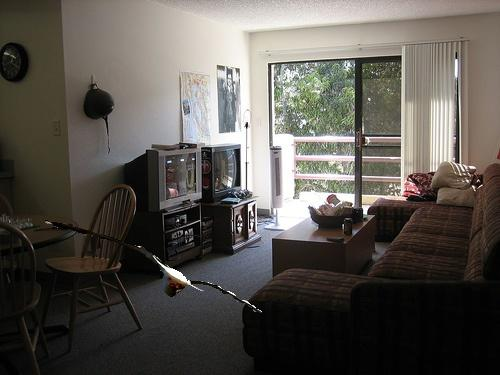tampered: (45, 221, 262, 313)
